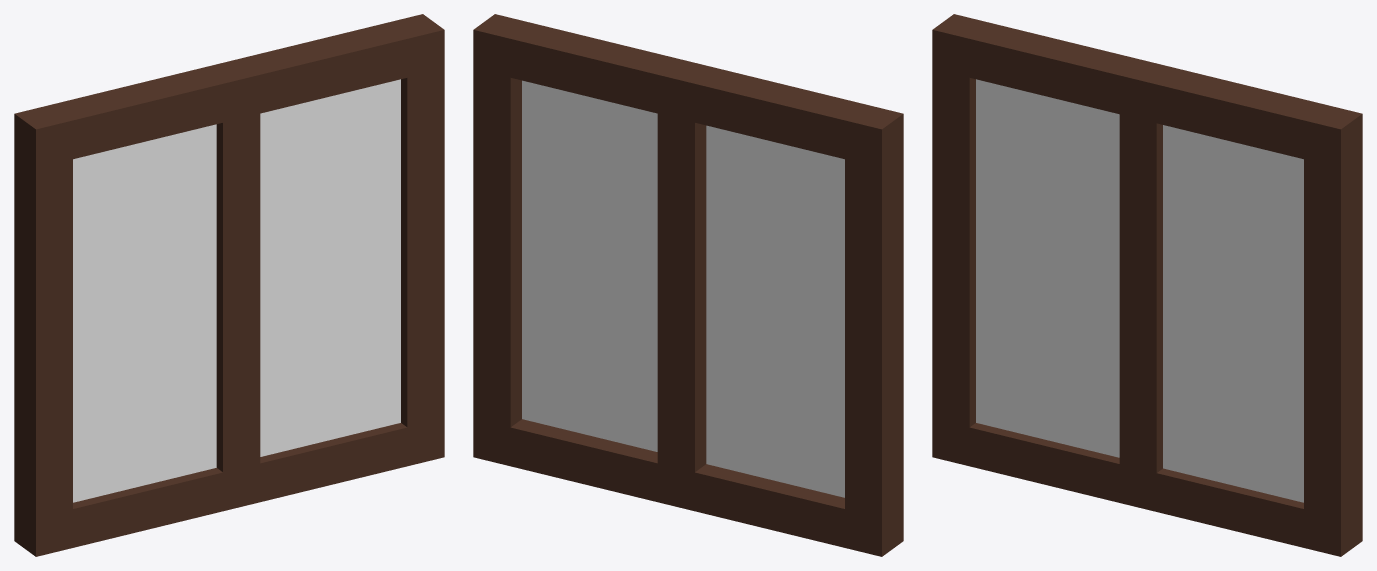
The model's file is lduvar.fbx.
3 views of the same model, side by side, from view 1: azimuth 30°, elevation 25°; view 2: azimuth 150°, elevation 25°; view 3: azimuth 330°, elevation 25° (orthographic).
Visible parts, largest first — view 1: Plane.007, Plane.011; view 2: Plane.011, Plane.007; view 3: Plane.007, Plane.011.
Part boxes in pixels (box(x1,y1,x2,y2)): Plane.007: box(73, 79, 400, 502); Plane.011: box(14, 14, 444, 556); Plane.011: box(473, 14, 903, 556); Plane.007: box(522, 80, 844, 497); Plane.007: box(976, 79, 1303, 502); Plane.011: box(932, 14, 1362, 556).
Size of the model in its own units: 2.86 by 2.86 by 0.2616.
